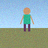person: (20, 8, 34, 31)
